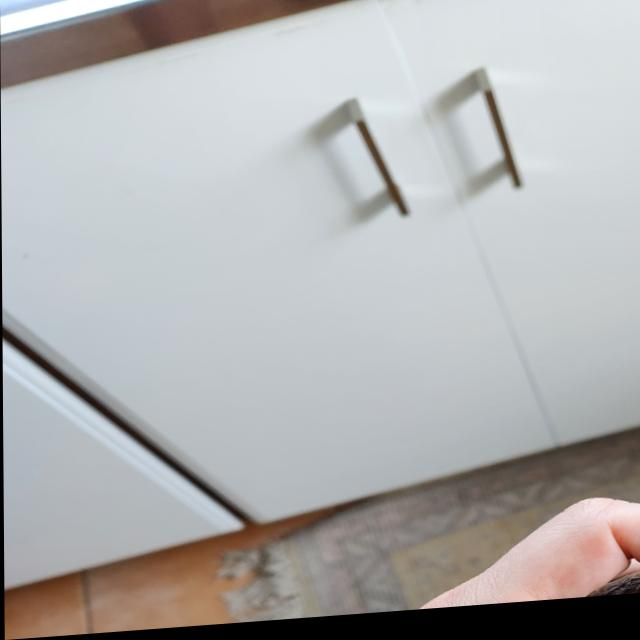avocado: (546, 580, 640, 608)
